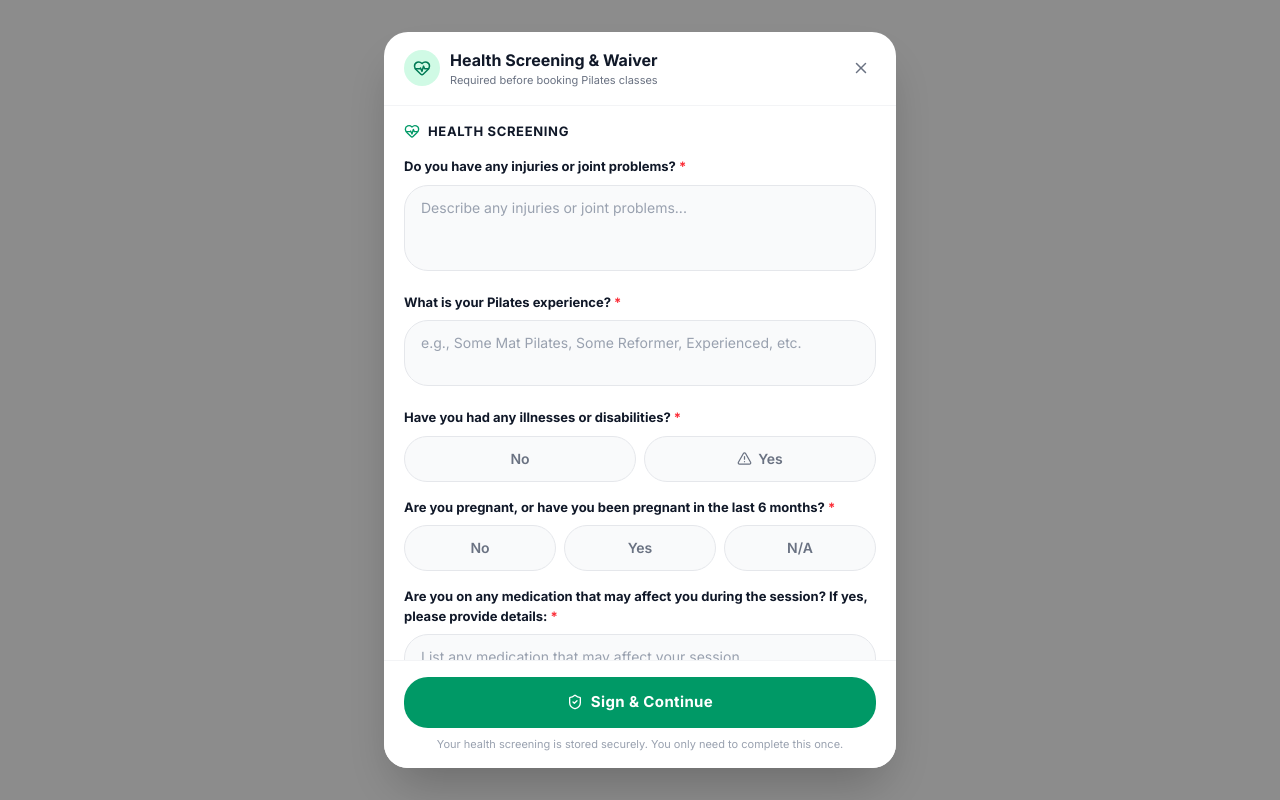
Test case: PilatesWaiverFormSheet › shows illness details textarea when Yes is selected for Q3
The image size is (1280, 800).
Click the 1st radio button "Yes". click: (760, 458)
box: [644,436,876,482]
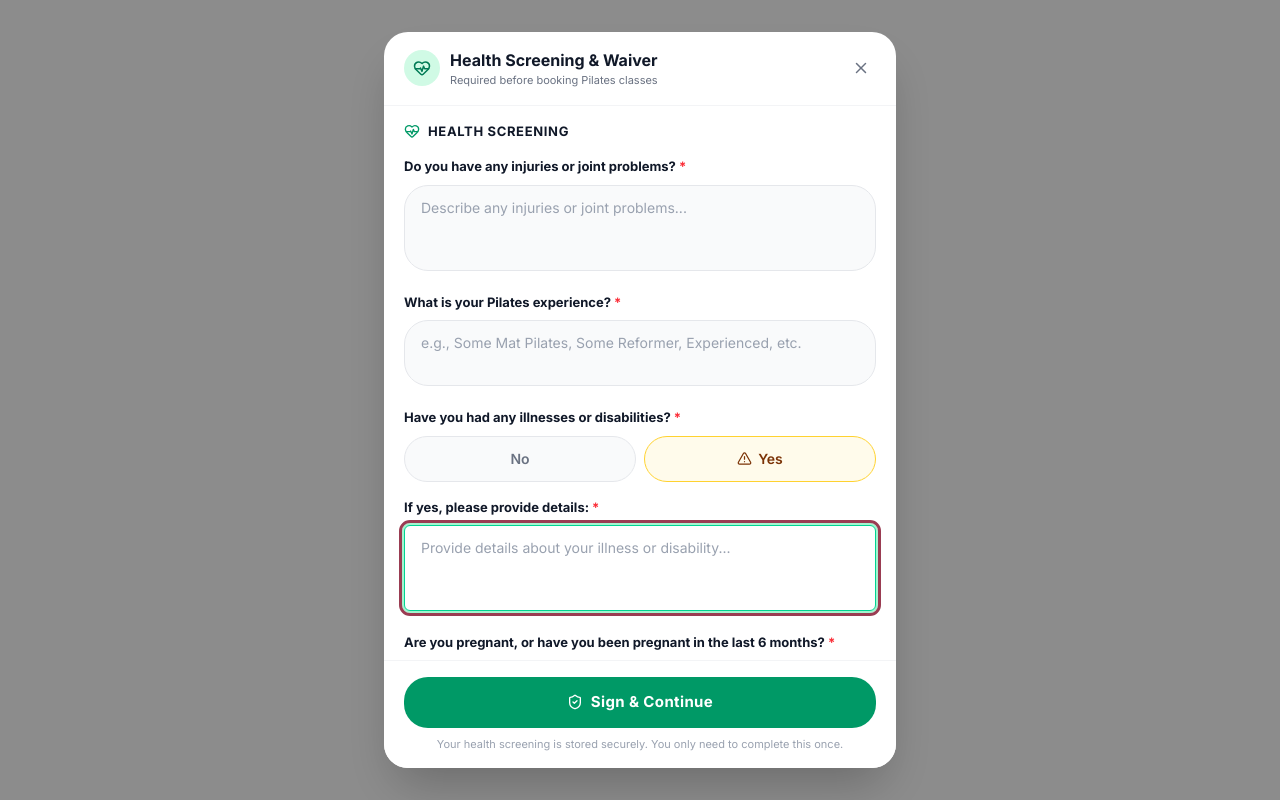
Now the text box with placeholder "Provide details about your illness or disability..." is shown, box [404,525,876,611]
